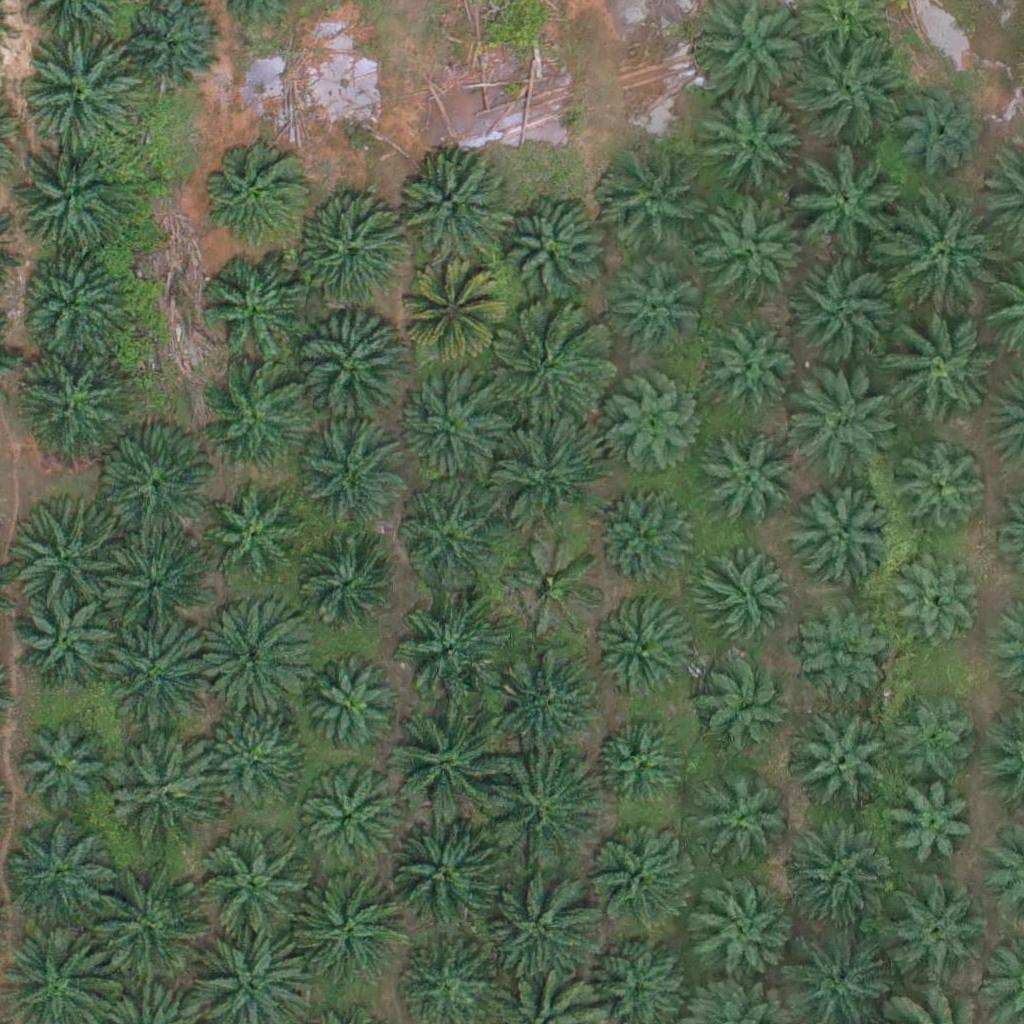Kelapa_Sawit: (388, 815, 501, 929), (195, 599, 308, 713), (104, 615, 217, 729), (21, 242, 134, 356), (12, 147, 125, 261), (787, 255, 900, 368), (781, 824, 894, 937), (482, 869, 595, 982), (485, 640, 598, 753), (489, 420, 602, 533), (493, 308, 606, 421), (387, 709, 500, 822), (296, 315, 409, 428), (290, 873, 403, 986), (198, 257, 311, 370), (200, 834, 313, 947), (109, 733, 222, 846), (884, 202, 997, 315), (790, 151, 903, 264), (492, 196, 605, 309), (786, 372, 898, 486), (485, 754, 597, 868), (201, 362, 313, 476), (2, 816, 114, 930), (199, 134, 311, 248), (880, 311, 992, 424), (877, 876, 989, 989), (393, 588, 505, 701), (102, 437, 214, 550), (91, 866, 203, 979), (13, 345, 125, 458), (13, 493, 125, 606), (796, 34, 908, 147), (698, 184, 810, 297), (592, 147, 704, 260), (395, 153, 507, 266), (285, 197, 397, 310), (27, 38, 139, 151), (893, 433, 993, 534), (793, 488, 893, 589), (797, 717, 897, 818), (698, 430, 798, 531), (690, 550, 790, 651), (695, 650, 795, 751), (691, 882, 791, 983), (596, 485, 696, 586), (593, 601, 693, 702), (592, 827, 692, 928), (394, 374, 494, 475), (396, 486, 496, 587), (302, 431, 402, 532), (297, 771, 397, 872), (203, 486, 303, 587), (14, 721, 114, 822), (15, 591, 115, 692), (703, 98, 803, 199), (789, 600, 889, 700), (599, 380, 699, 480), (505, 536, 605, 636), (400, 268, 500, 368), (294, 545, 394, 645), (205, 718, 305, 818), (105, 534, 205, 634), (307, 665, 395, 754), (595, 726, 683, 814), (902, 84, 990, 172), (891, 554, 978, 642), (891, 695, 978, 783), (888, 783, 975, 871), (710, 325, 797, 413), (699, 778, 786, 866), (612, 270, 699, 358)
